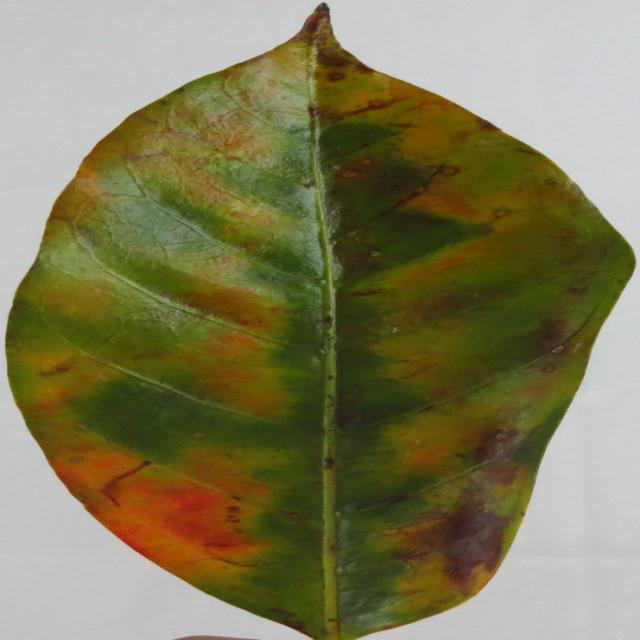DeficienciaNutricional-Fosforo: (7, 5, 633, 640)
